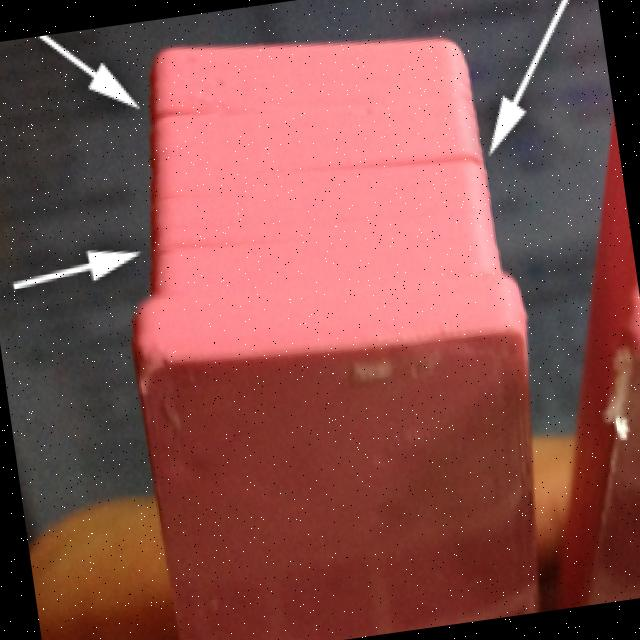cracks: (295, 146, 485, 184), (148, 233, 273, 261), (151, 100, 251, 129)
